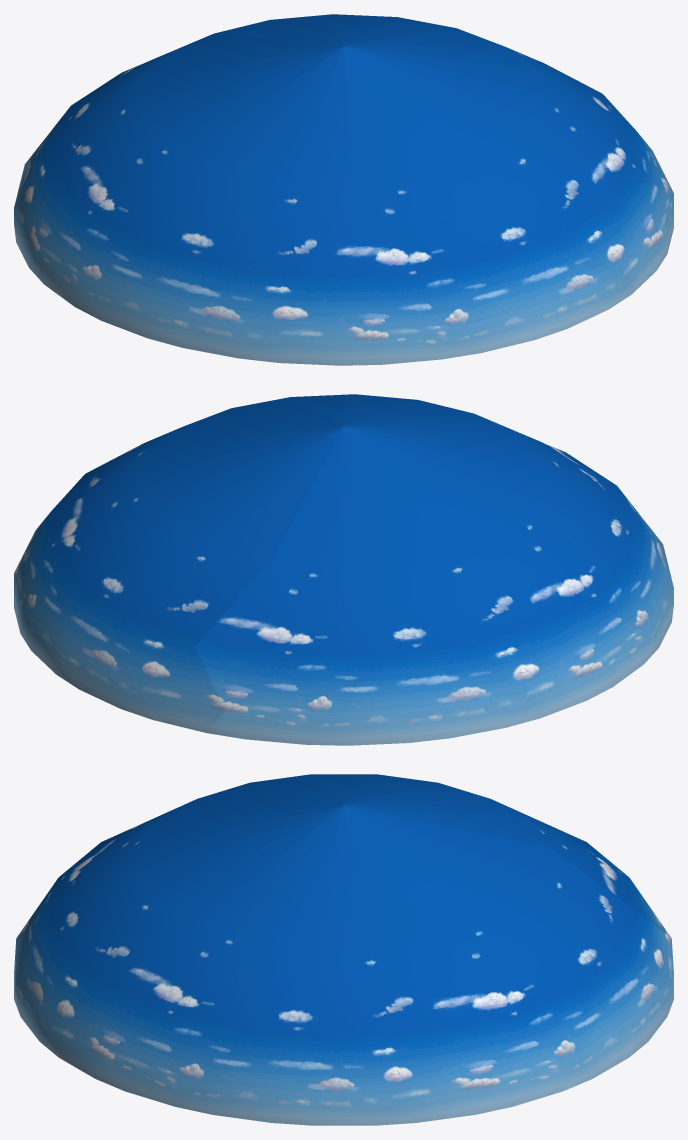
The model's file is peach_course.dae.
The picture shows the model from 3 angles, top to bottom: view 1: azimuth 30°, elevation 25°; view 2: azimuth 150°, elevation 25°; view 3: azimuth 270°, elevation 25°; orthographic projection.
Parts seen in each view (by area): view 1: n13b1; view 2: n13b1; view 3: n13b1.
Part boxes in pixels (x1,y1,x2,y2): n13b1: [14, 14, 673, 365]; n13b1: [14, 394, 673, 745]; n13b1: [14, 774, 673, 1125].
Bounding box in the file's own units: 260798 × 79722 × 260798.
